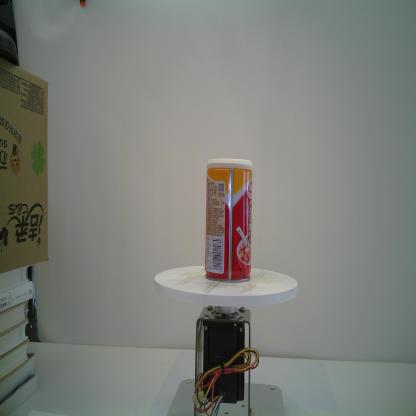Canned Food: (204, 157, 253, 284)
